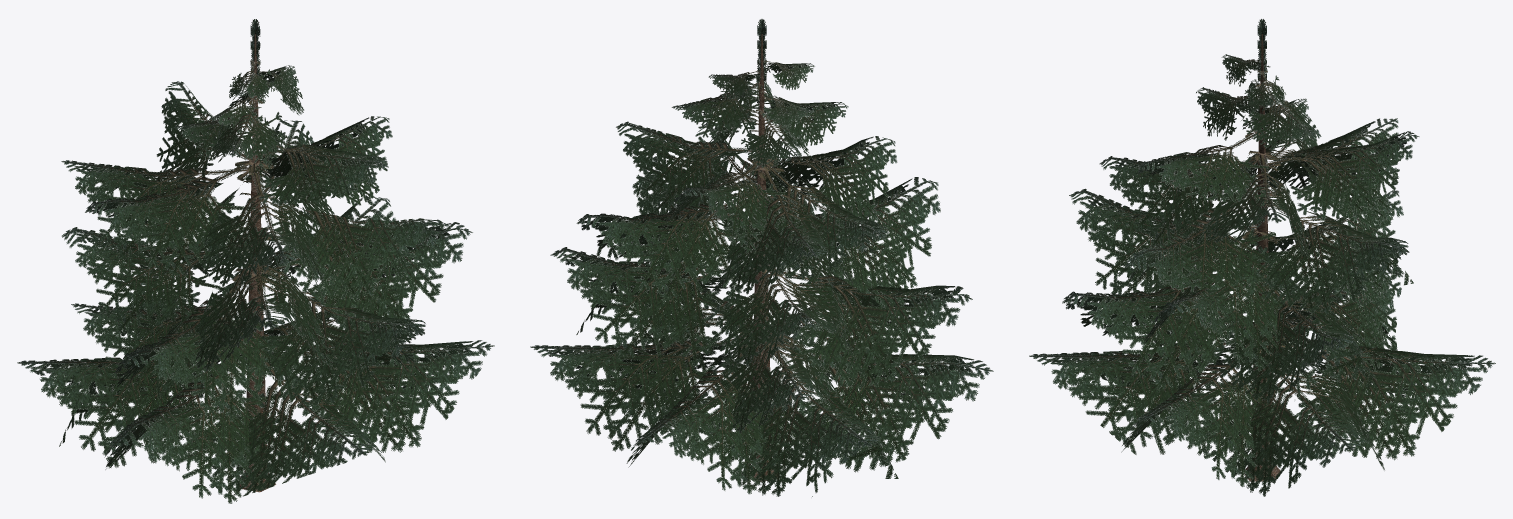
The model's file is tree.obj.
3 views of the same model, side by side, from view 1: azimuth 30°, elevation 25°; view 2: azimuth 150°, elevation 25°; view 3: azimuth 270°, elevation 25° (orthographic). The views are drawn at different scales.
Parts seen in each view (by area): view 1: tree polySurface1, Trunk1 tree; view 2: tree polySurface1, Trunk1 tree; view 3: tree polySurface1, Trunk1 tree.
Boxes of the visible parts, x1=… form: tree polySurface1: x1=17, y1=19, x2=494, y2=503; Trunk1 tree: x1=239, y1=34, x2=275, y2=492; tree polySurface1: x1=530, y1=19, x2=993, y2=496; Trunk1 tree: x1=748, y1=34, x2=777, y2=481; tree polySurface1: x1=1029, y1=19, x2=1495, y2=496; Trunk1 tree: x1=1244, y1=34, x2=1280, y2=481.
Bounding box in the file's own units: 42.8 × 49.51 × 46.23.
